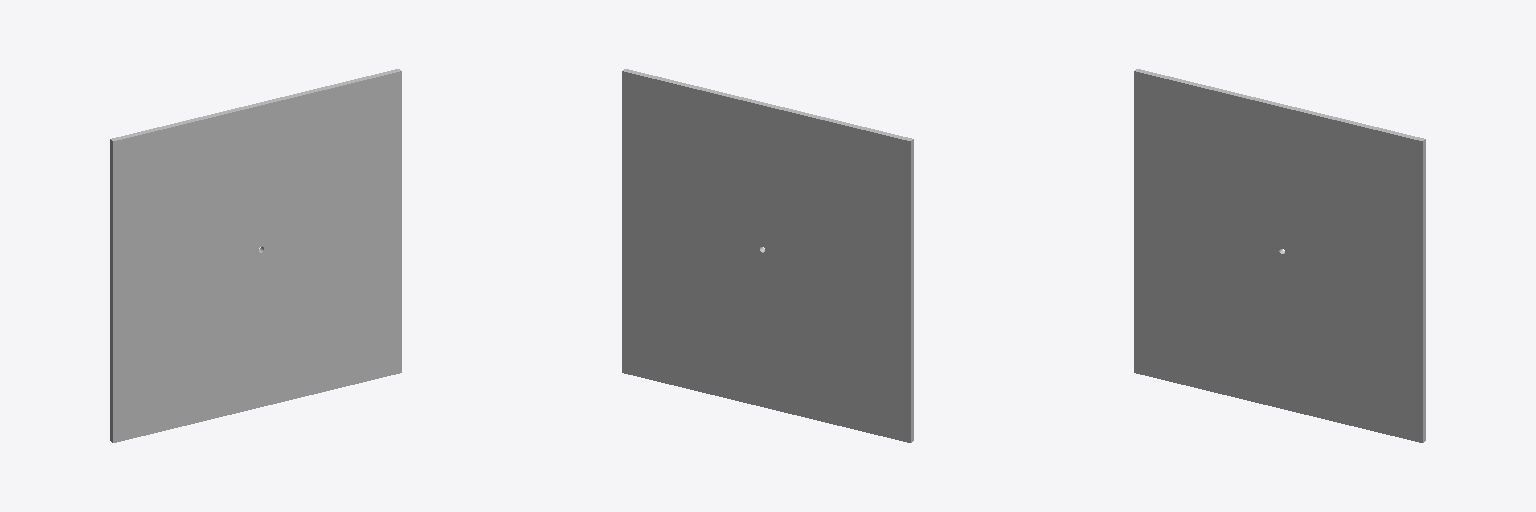
File: Pinhole v1.obj
The picture shows the model from 3 angles: view 1: azimuth 30°, elevation 25°; view 2: azimuth 150°, elevation 25°; view 3: azimuth 330°, elevation 25°; orthographic projection.
Visible parts, largest first — view 1: Body1; view 2: Body1; view 3: Body1.
Part boxes in pixels (x1,y1,x2,y2): Body1: (110, 69, 401, 442); Body1: (622, 69, 913, 442); Body1: (1134, 69, 1425, 442).
Bounding box in the file's own units: 5 × 5 × 0.1.